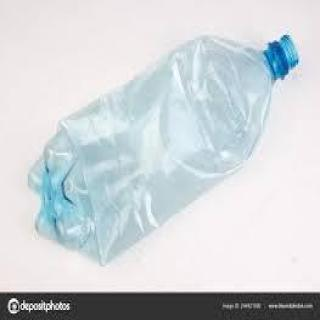Plastic-bottle: (24, 33, 303, 269)
